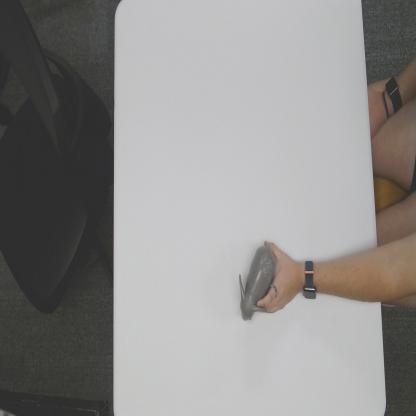Arm: (317, 245, 380, 302)
Elephant: (239, 238, 277, 322)
Hand: (256, 238, 300, 315)
